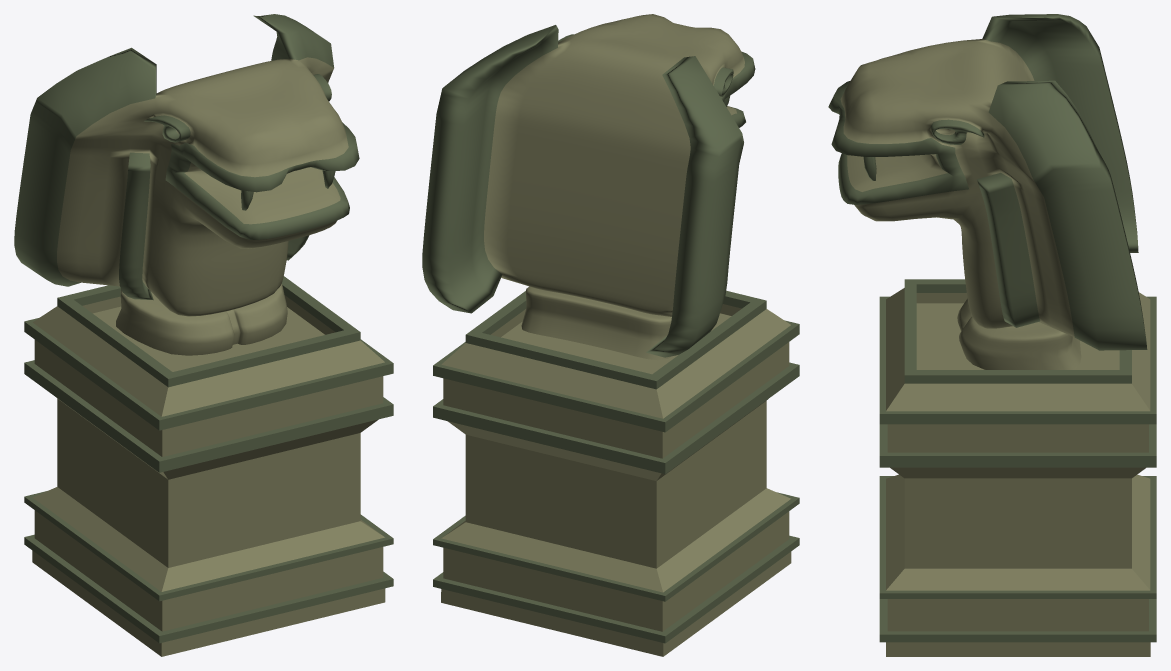
Rendered from statue_snake.fbx.
3 renders of one model, left to right at view 1: azimuth 30°, elevation 25°; view 2: azimuth 150°, elevation 25°; view 3: azimuth 270°, elevation 25°, orthographic. The views are drawn at different scales.
Parts seen in each view (by area): view 1: statue_snake_pilar, statue_snake_head; view 2: statue_snake_pilar, statue_snake_head; view 3: statue_snake_pilar, statue_snake_head.
Part boxes in pixels (<box>): statue_snake_pilar: <box>24,276,393,656</box>; statue_snake_head: <box>14,14,359,355</box>; statue_snake_pilar: <box>433,291,799,656</box>; statue_snake_head: <box>422,14,755,360</box>; statue_snake_pilar: <box>879,279,1156,656</box>; statue_snake_head: <box>828,14,1147,369</box>.
Size of the model in its own units: 1.59 by 2.95 by 1.6.
